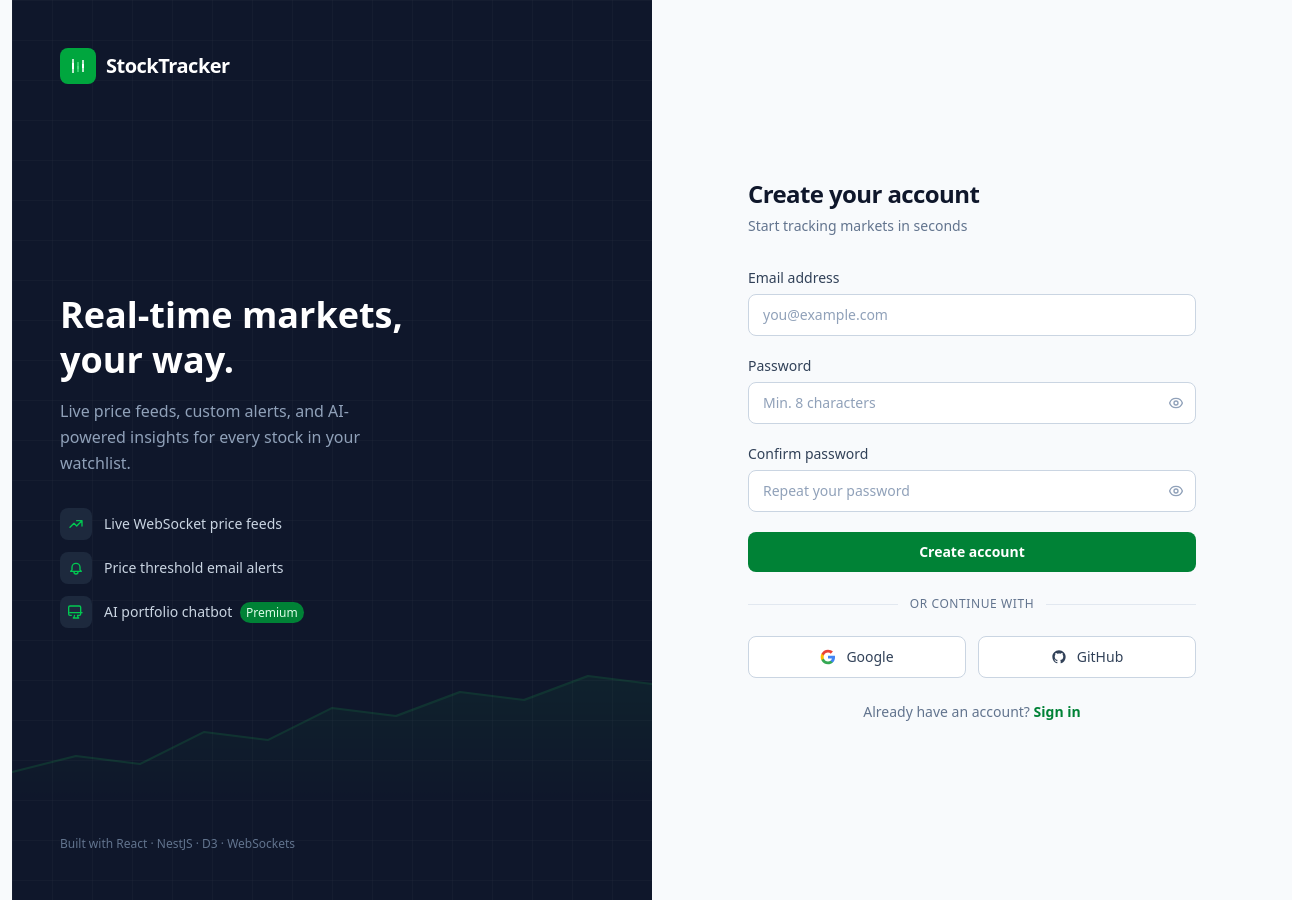
Test: RegisterPage › validation › shows email error on empty submit
The width and height of the screenshot is (1292, 900).
Click the button "Create account" at {"x": 972, "y": 552}, box left=748, top=532, right=1196, bottom=572
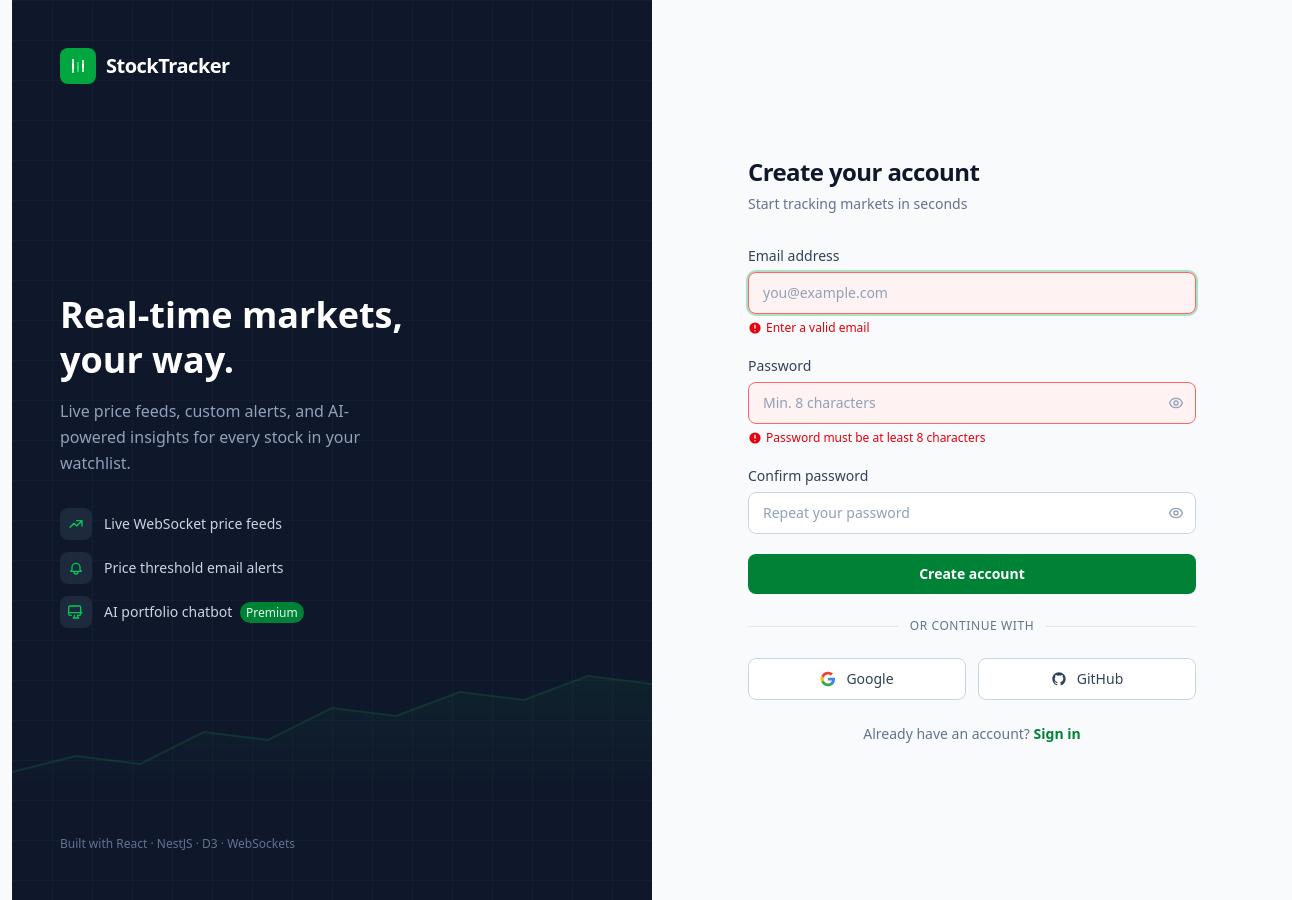
Check: the text "Enter a valid email" is shown, box left=748, top=319, right=870, bottom=336
